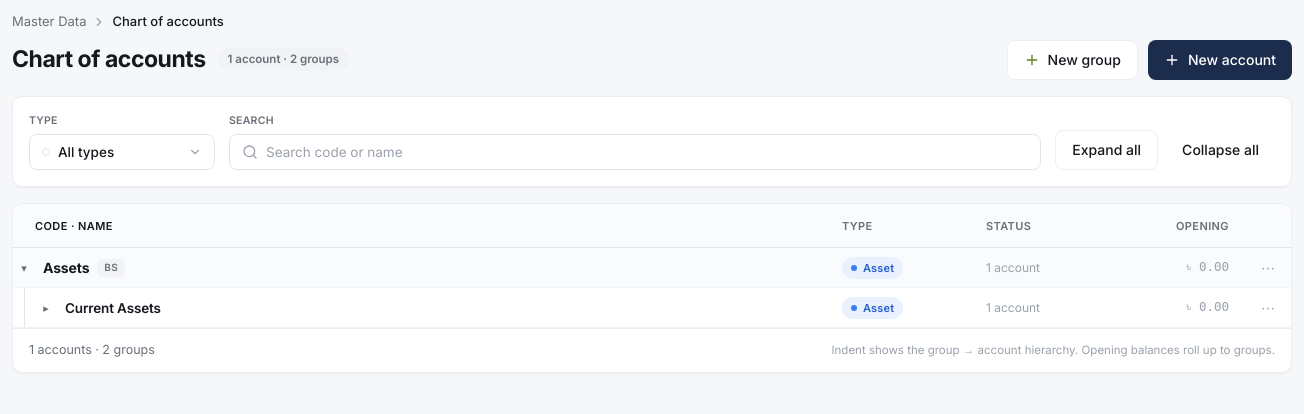
Test: ChartOfAccountsScreen — tree + states › renders the tree; expanding a group reveals its account leaf (FR-MAS-017/018)
Expected: the list item with test id "group-node-g1" is shown, 13,248 -> 1291,288
Click the button with aria-label "expand current assets" at (113, 308), box 35,288 -> 833,327
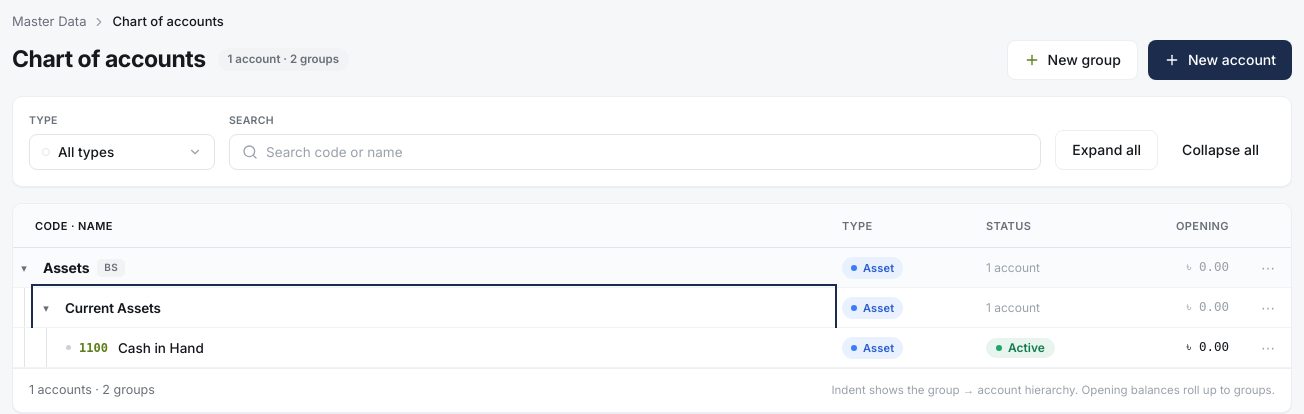
Expected: the link "1100" is shown, 79,339 -> 108,357
